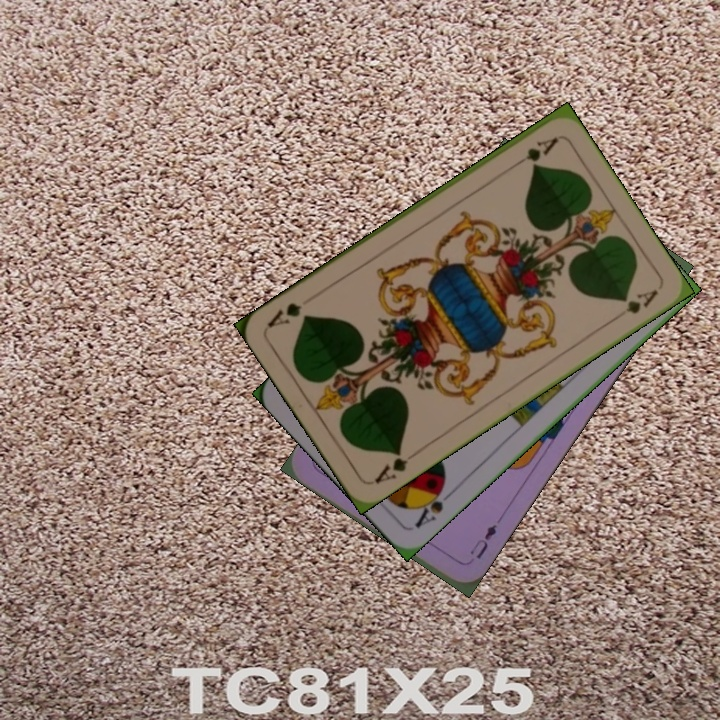EU: (465, 520, 500, 562)
GA: (370, 445, 421, 486), (508, 132, 561, 171)
SA: (410, 479, 457, 532)
